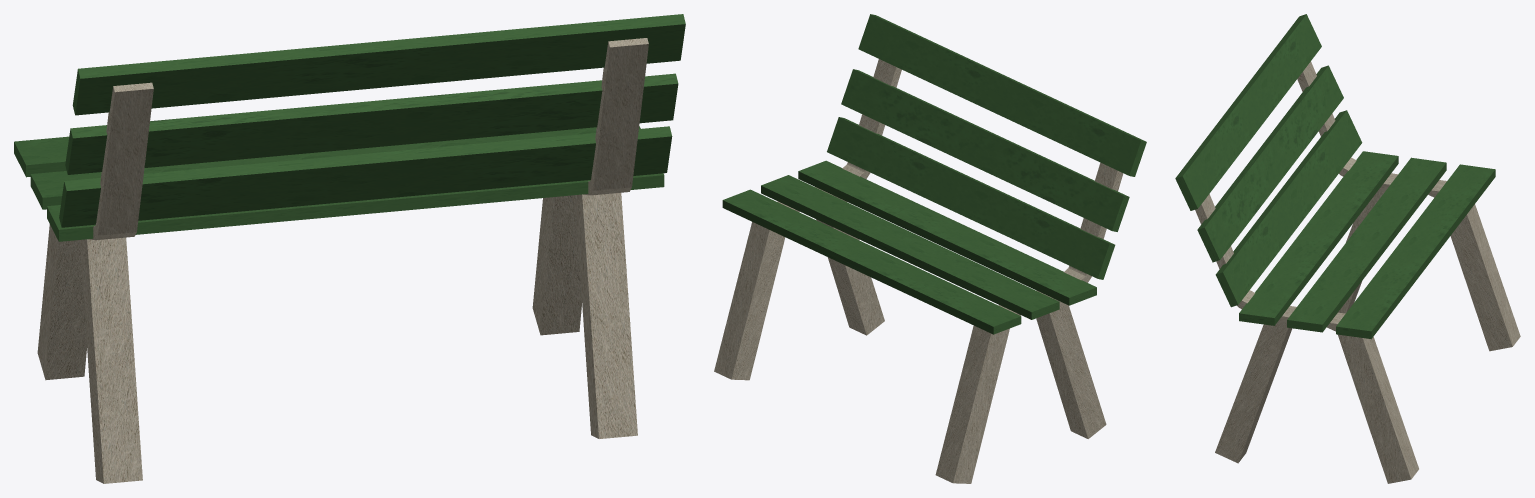
Rendered from bench.fbx.
The picture shows the model from 3 angles, left to right: view 1: azimuth 30°, elevation 25°; view 2: azimuth 150°, elevation 25°; view 3: azimuth 270°, elevation 25°; orthographic projection. The views are drawn at different scales.
Parts seen in each view (by area): view 1: Cube; view 2: Cube; view 3: Cube.
Part boxes in pixels (box(x1,y1,x2,y2)): Cube: box(14, 14, 685, 483); Cube: box(714, 14, 1146, 483); Cube: box(1175, 14, 1520, 483).
Bounding box in the file's own units: 823 × 591 × 636.
2 materials, 2 textured.
